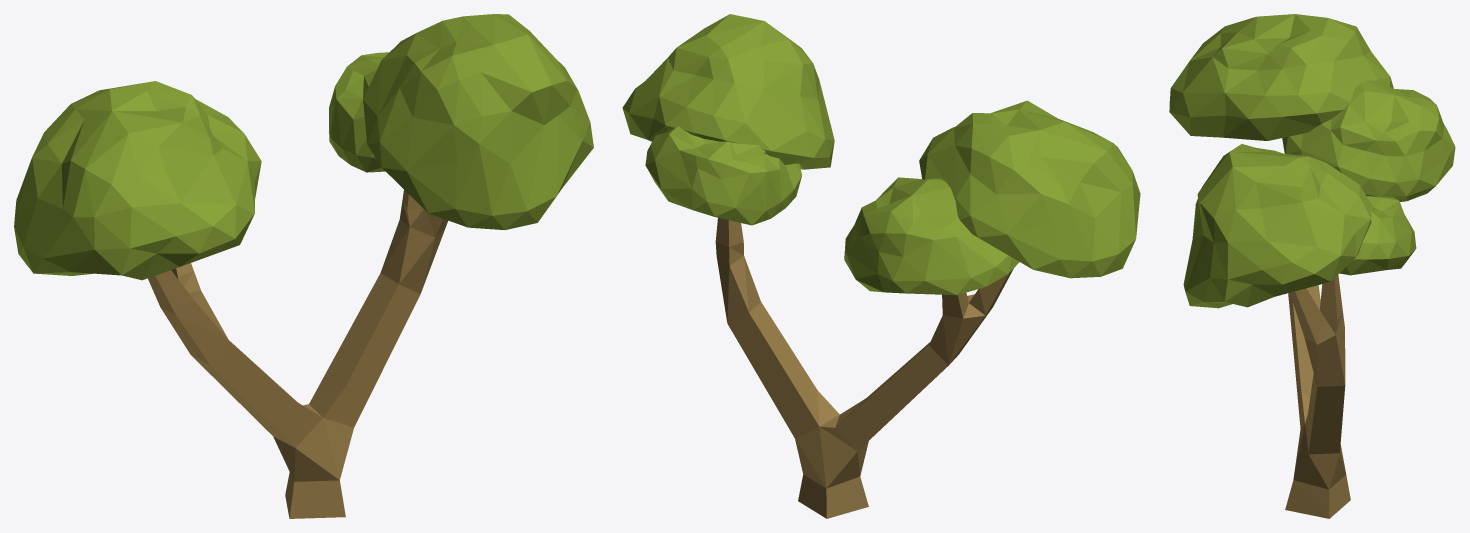
File: tree_tall01.fbx
3 views of the same model, side by side, from view 1: azimuth 30°, elevation 25°; view 2: azimuth 150°, elevation 25°; view 3: azimuth 270°, elevation 25° (orthographic). The views are drawn at different scales.
Parts seen in each view (by area): view 1: tree_tall01_LOD0; view 2: tree_tall01_LOD0; view 3: tree_tall01_LOD0.
Boxes of the visible parts, <box> form: tree_tall01_LOD0: <box>14,14,593,518</box>; tree_tall01_LOD0: <box>622,14,1140,518</box>; tree_tall01_LOD0: <box>1169,14,1455,518</box>.
Size of what is drawn, in the model's own units: 480 by 395 by 251.
